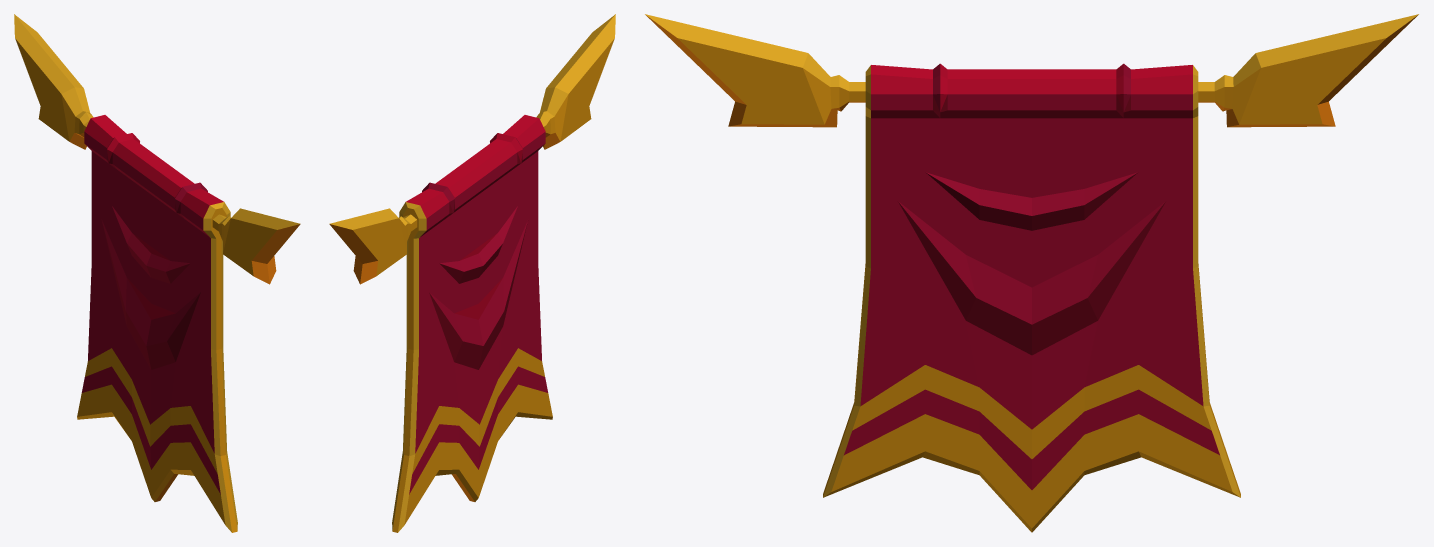
Rendered from Prop_Banner_Small.fbx.
3 views of the same model, side by side, from view 1: azimuth 30°, elevation 25°; view 2: azimuth 150°, elevation 25°; view 3: azimuth 270°, elevation 25° (orthographic). The views are drawn at different scales.
Parts seen in each view (by area): view 1: MODEL_Banner_Small; view 2: MODEL_Banner_Small; view 3: MODEL_Banner_Small.
Part boxes in pixels (left/top/right/bottom): MODEL_Banner_Small: left=14, top=14, right=300, bottom=532; MODEL_Banner_Small: left=329, top=14, right=615, bottom=532; MODEL_Banner_Small: left=645, top=14, right=1418, bottom=532.
Size of the model in its own units: 76.25 by 839 by 1139.
